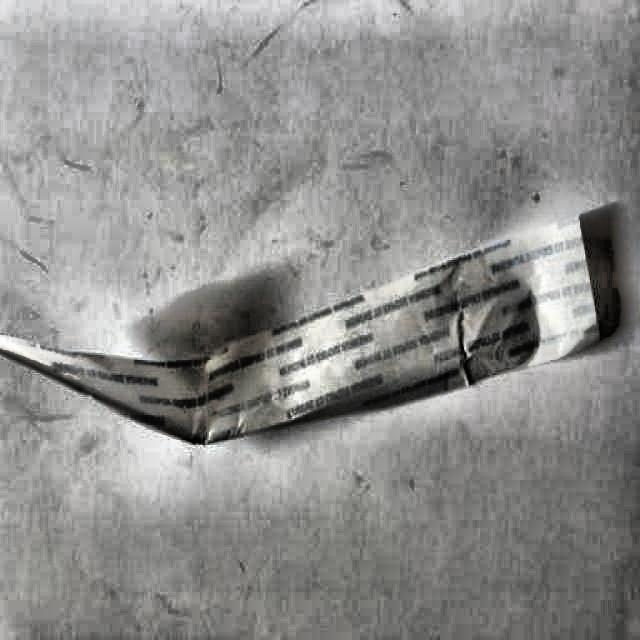Paper: (0, 212, 599, 440)
